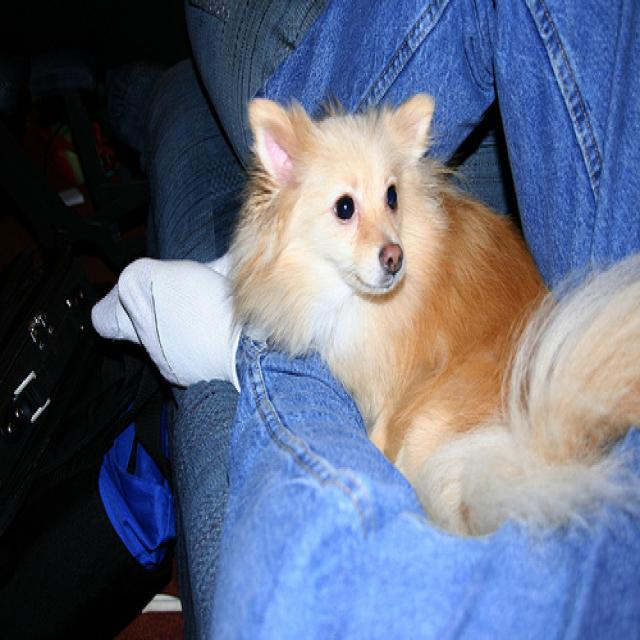dog-pomeranian: (216, 81, 637, 550)
